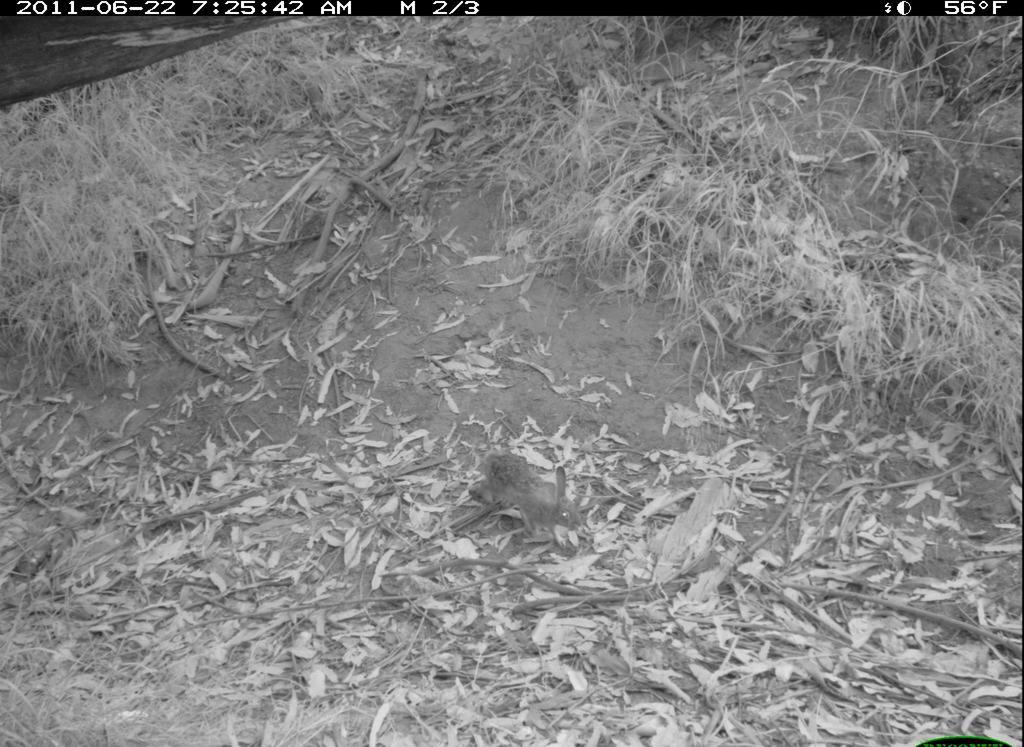rabbit: (440, 424, 601, 575)
